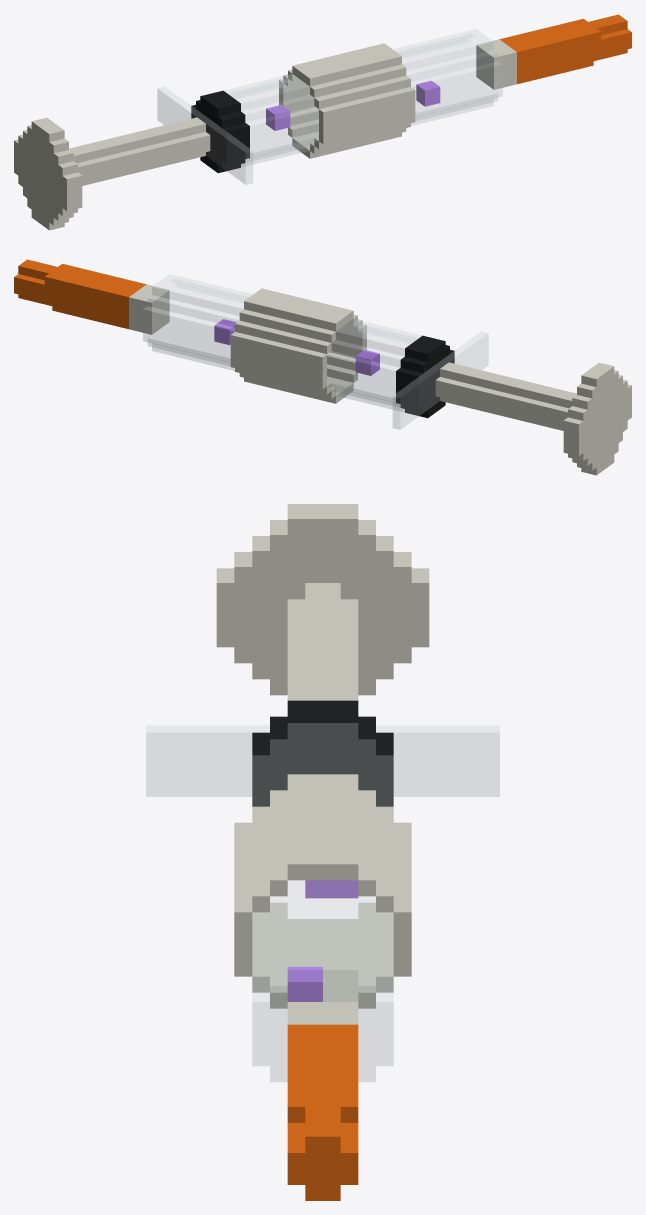
File: morphic_serum_syringe.glb
3 renders of one model, top to bottom at view 1: azimuth 30°, elevation 25°; view 2: azimuth 150°, elevation 25°; view 3: azimuth 270°, elevation 25°, orthographic. The views are drawn at different scales.
Parts seen in each view (by area): view 1: morphic_serum_syringe:compound; view 2: morphic_serum_syringe:compound; view 3: morphic_serum_syringe:compound.
Part boxes in pixels (box(x1,y1,x2,y2)): morphic_serum_syringe:compound: box(14, 14, 631, 230); morphic_serum_syringe:compound: box(14, 259, 631, 475); morphic_serum_syringe:compound: box(146, 504, 499, 1200).
Bounding box in the file's own units: 0.152 × 0.024 × 0.04.
